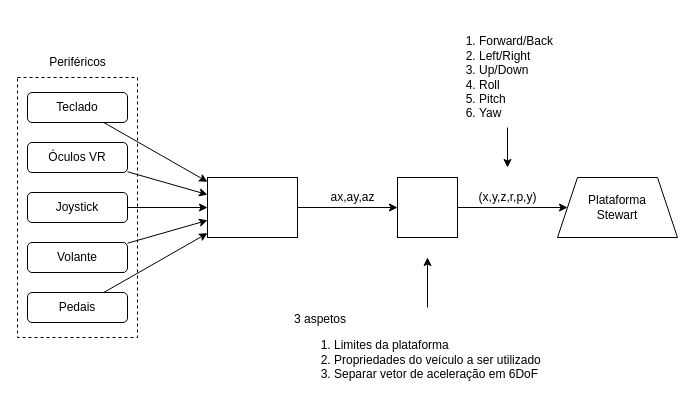
This 695x414 diagram has some shape labels left out. Here are the shapes that lost their labels. From the top down, the box of each, then its label:
(206, 176, 298, 238): Unity
(396, 176, 458, 238): .dll
